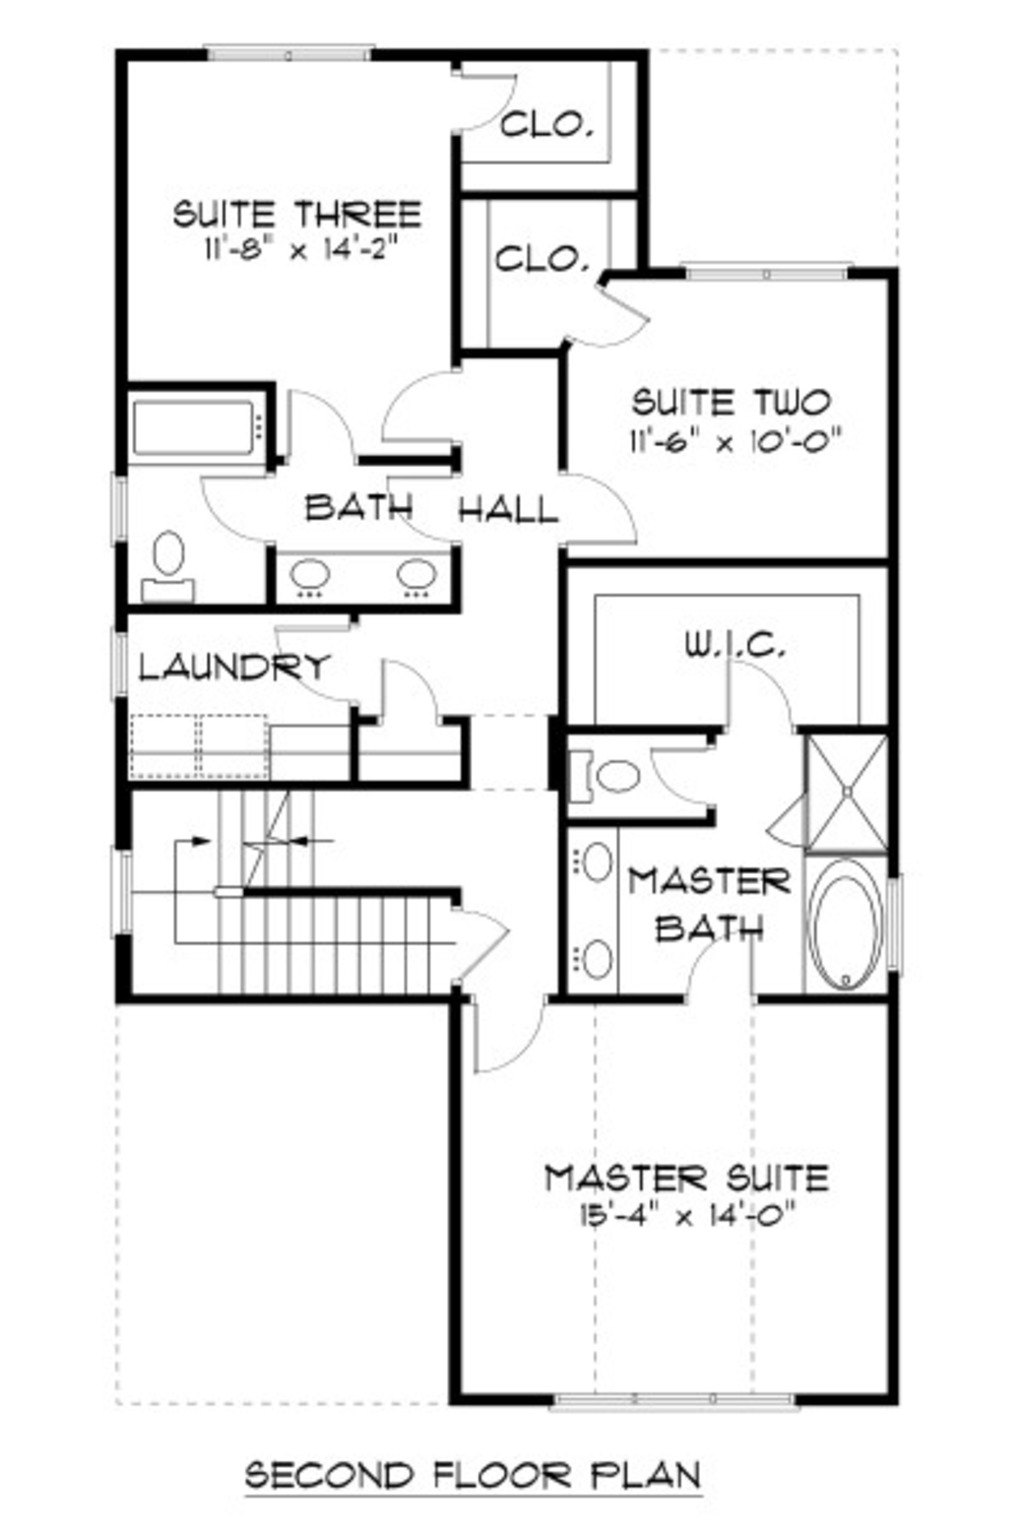door: (262, 614, 369, 710), (197, 469, 315, 551), (432, 63, 536, 151), (667, 926, 774, 1010), (274, 386, 374, 470), (701, 651, 799, 733), (378, 470, 478, 549), (562, 286, 661, 365), (381, 365, 469, 449), (555, 470, 646, 551), (459, 998, 553, 1075), (646, 735, 741, 805), (374, 649, 453, 731), (459, 901, 506, 989)
large_sink: (557, 725, 655, 826), (141, 526, 197, 607)
small_sink: (560, 827, 641, 1007), (269, 547, 457, 613)
stairs: (139, 789, 457, 993)
tub: (125, 384, 290, 470), (794, 858, 891, 998)
window: (533, 1382, 808, 1413), (677, 247, 857, 289), (197, 31, 376, 65), (101, 843, 136, 937), (106, 461, 133, 551), (101, 624, 129, 699)
